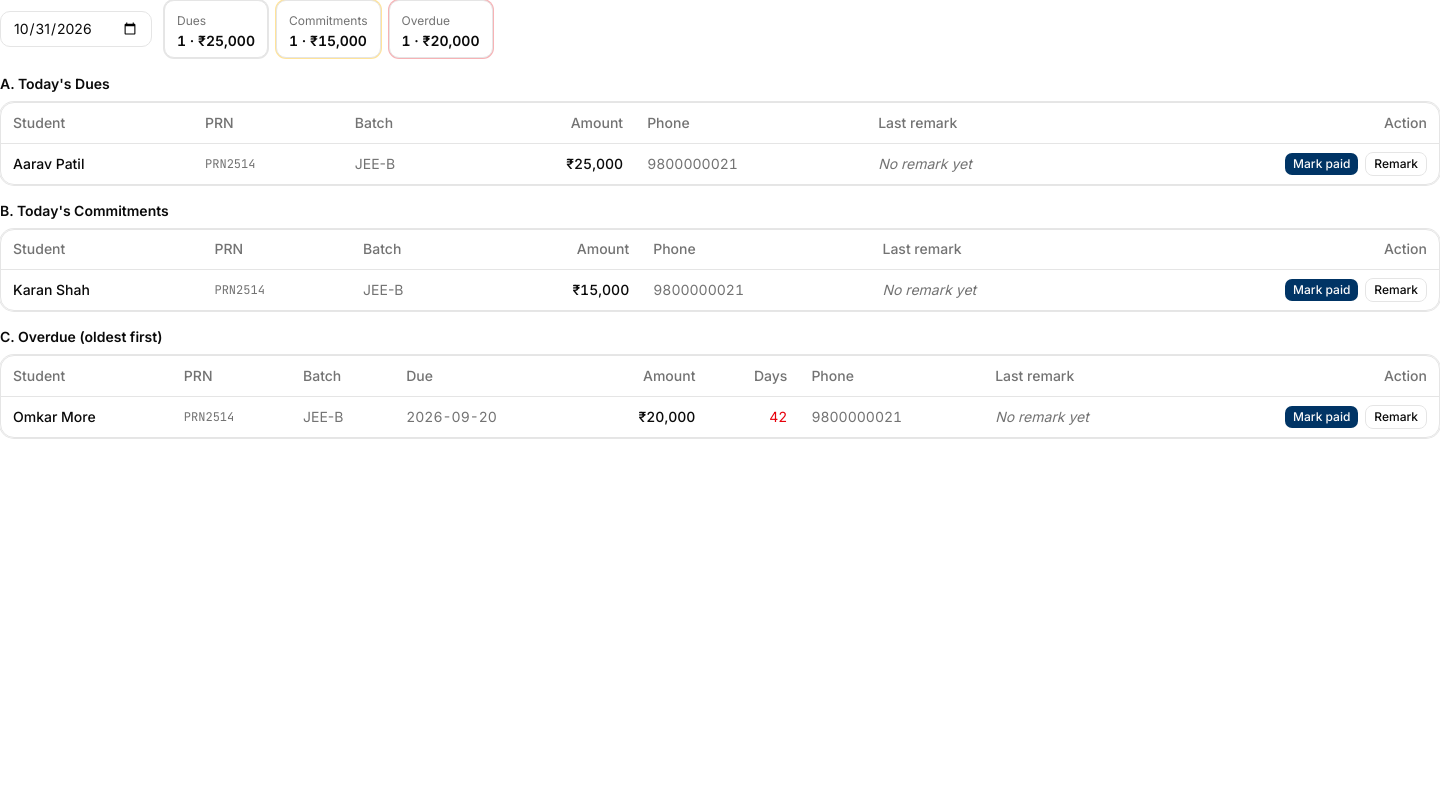
FollowUpBoard › opens the payment dialog from Mark paid
The image size is (1440, 810).
Click the 1st button "Mark paid" at x=1322, y=164, box [1284,152,1359,176]
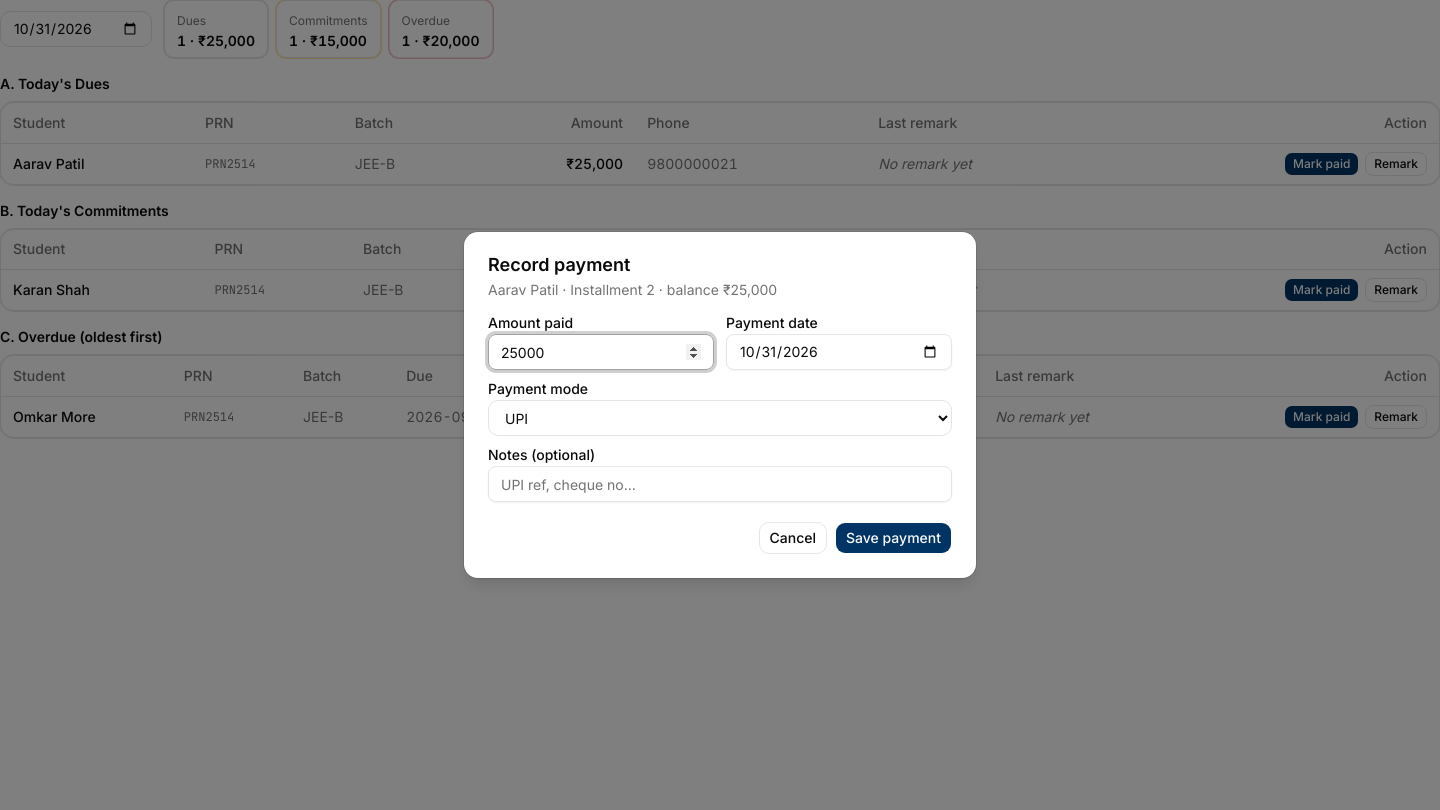
Check: the heading "Record payment" is shown, box [488,254,630,275]
